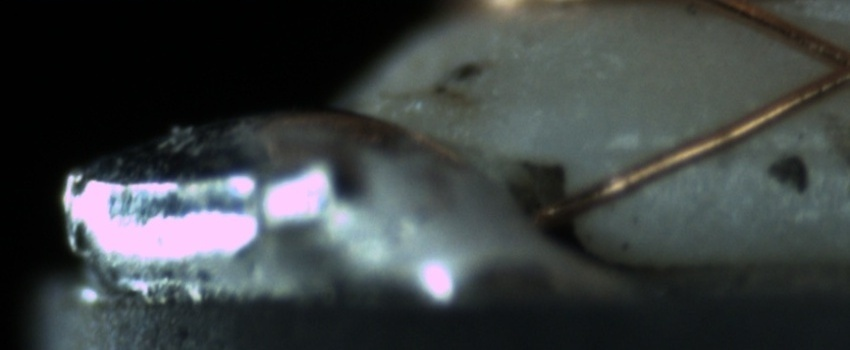CL: (800, 28, 850, 97)
DL: (586, 113, 822, 185)
